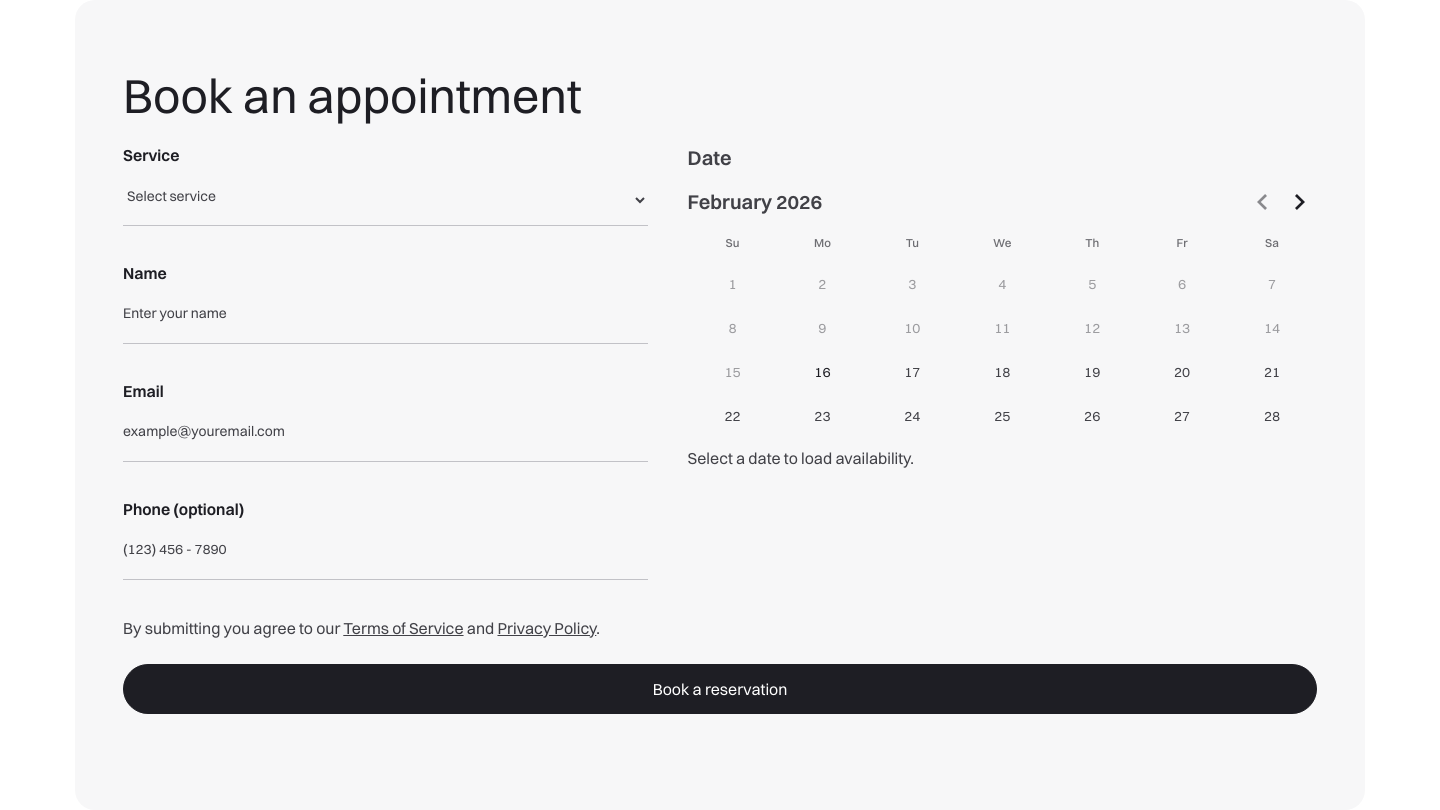
Reservation page › renders the simplified form and submits successfully
Expected: the heading "Book an appointment" is shown, x1=123 y1=66 x2=582 y2=125
Fill the form
Type "Jane Doe" into the field labelled "Name".
click(385, 318); type("Jane Doe")  # box x1=123 y1=292 x2=648 y2=344
Type "1234567890" into the field labelled "Phone (optional)".
click(385, 554); type("1234567890")  # box x1=123 y1=528 x2=648 y2=580
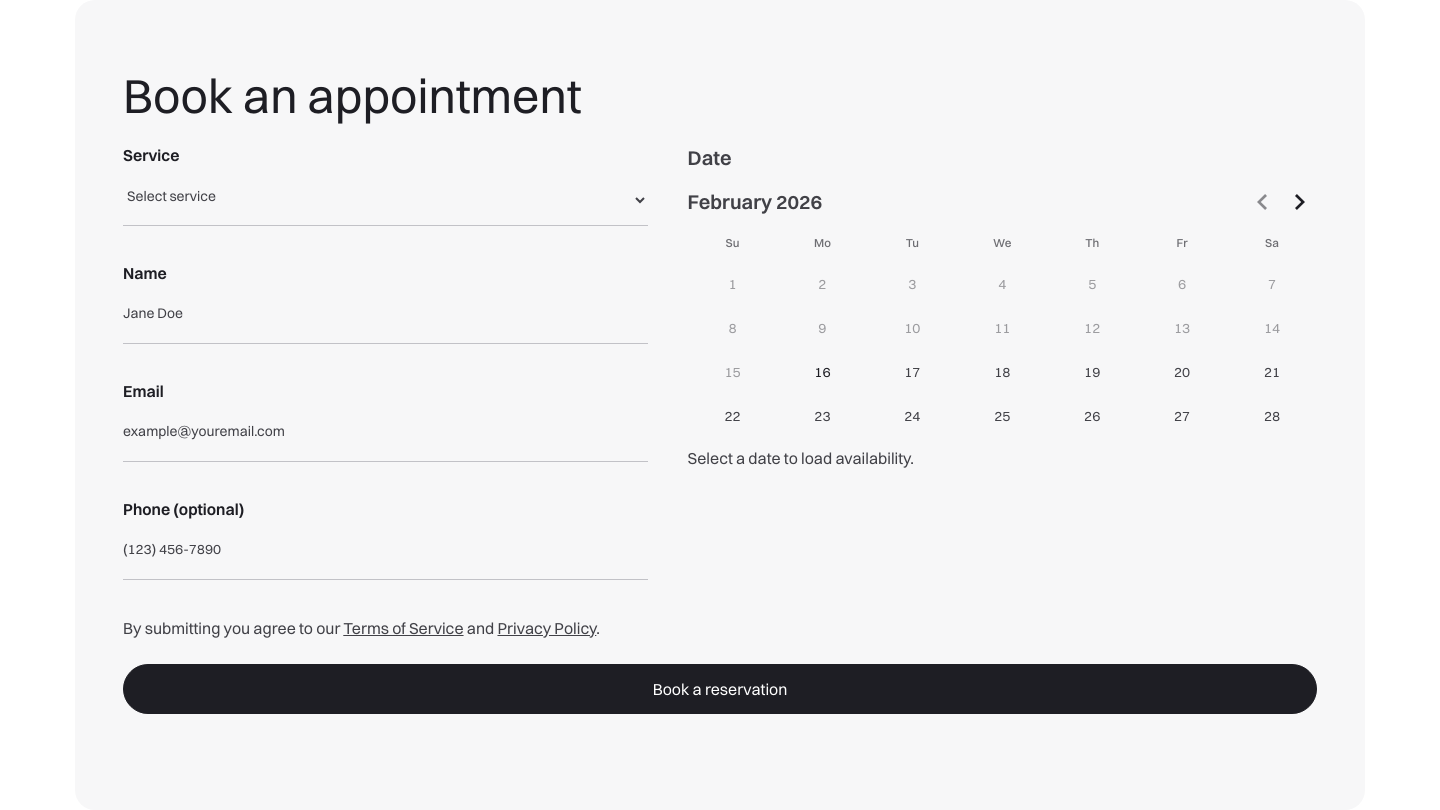
Type "jane@example.com" into the field with placeholder "example@youremail.com".
click(385, 436); type("jane@example.com")  # box x1=123 y1=410 x2=648 y2=462
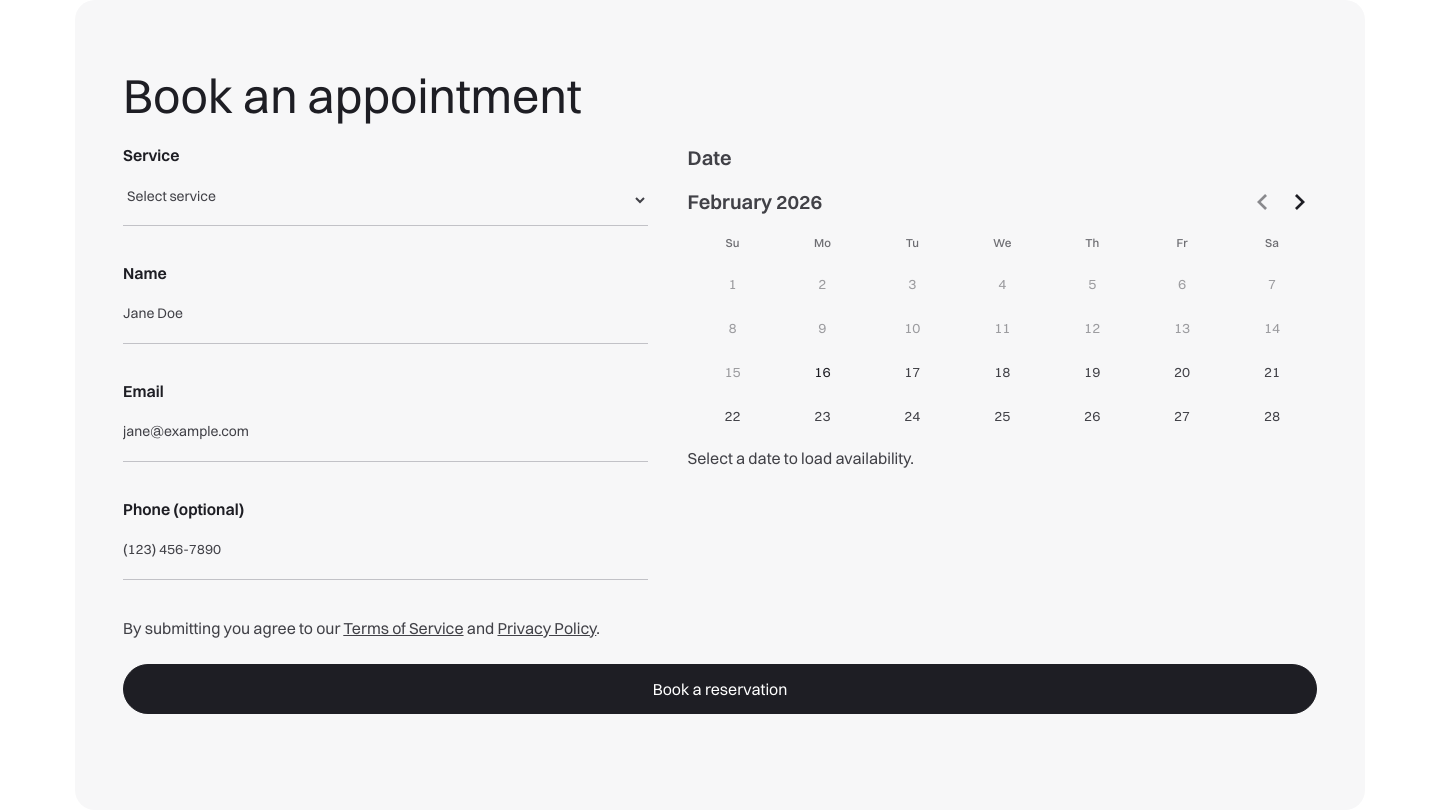
Wait for option to be present
Select "So AfriCal Facial" in the dropdown labelled "Service" at (385, 200), box x1=123 y1=174 x2=648 y2=226
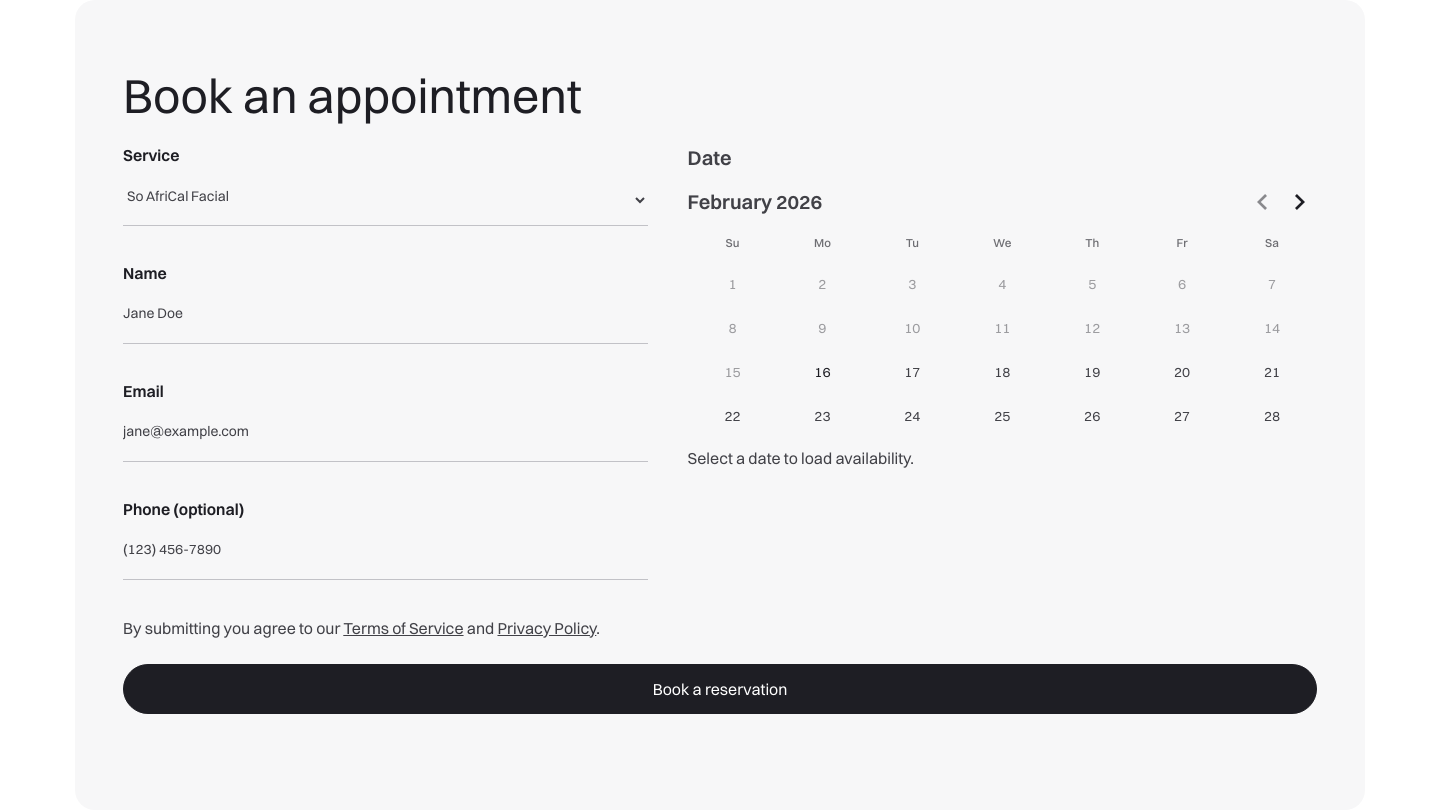
Pick a date (tomorrow)
Click the button "17".
click(912, 372)  # box x1=891 y1=351 x2=933 y2=393
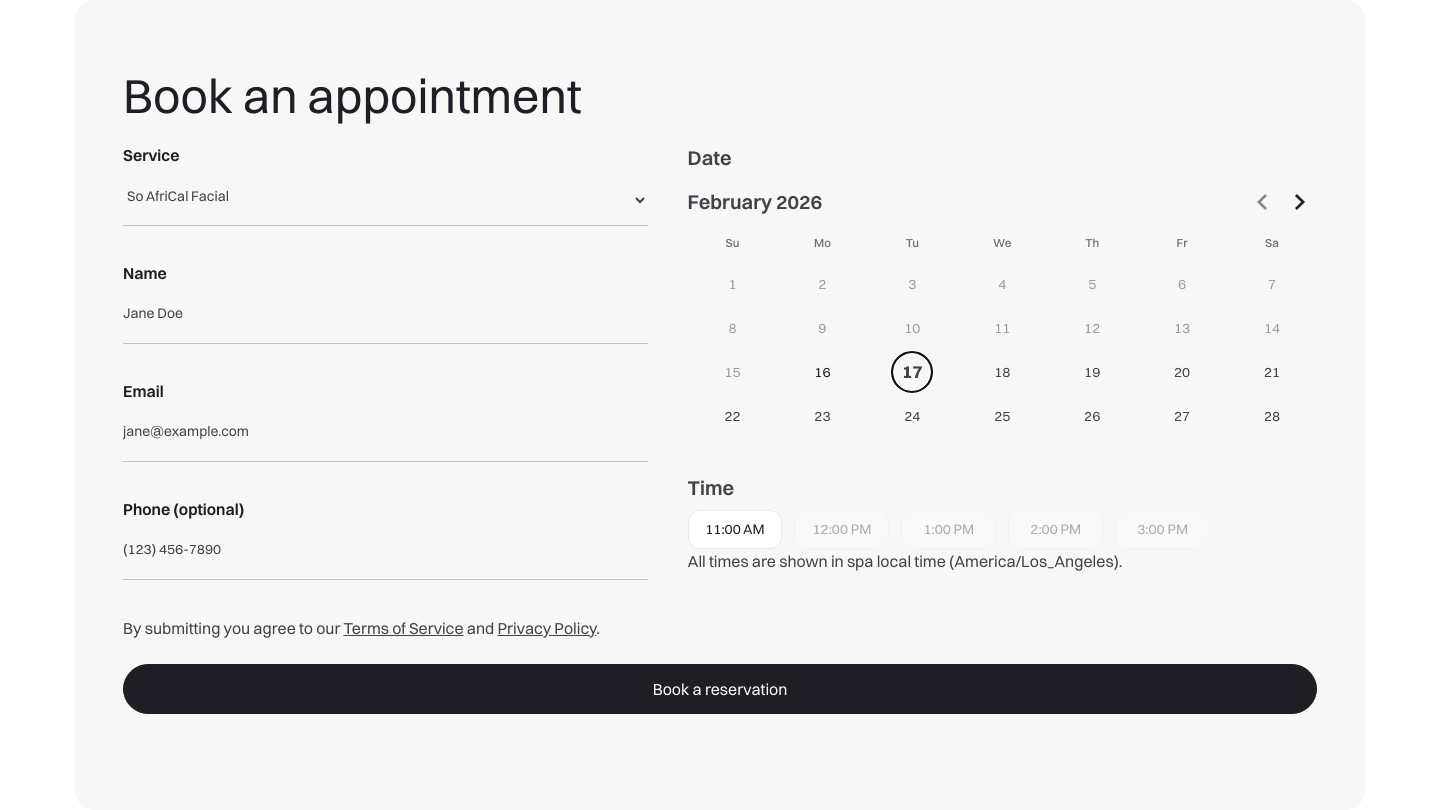
Result: the button "11:00 AM" is enabled
Click the button "11:00 AM".
click(735, 529)  # box x1=688 y1=510 x2=782 y2=549
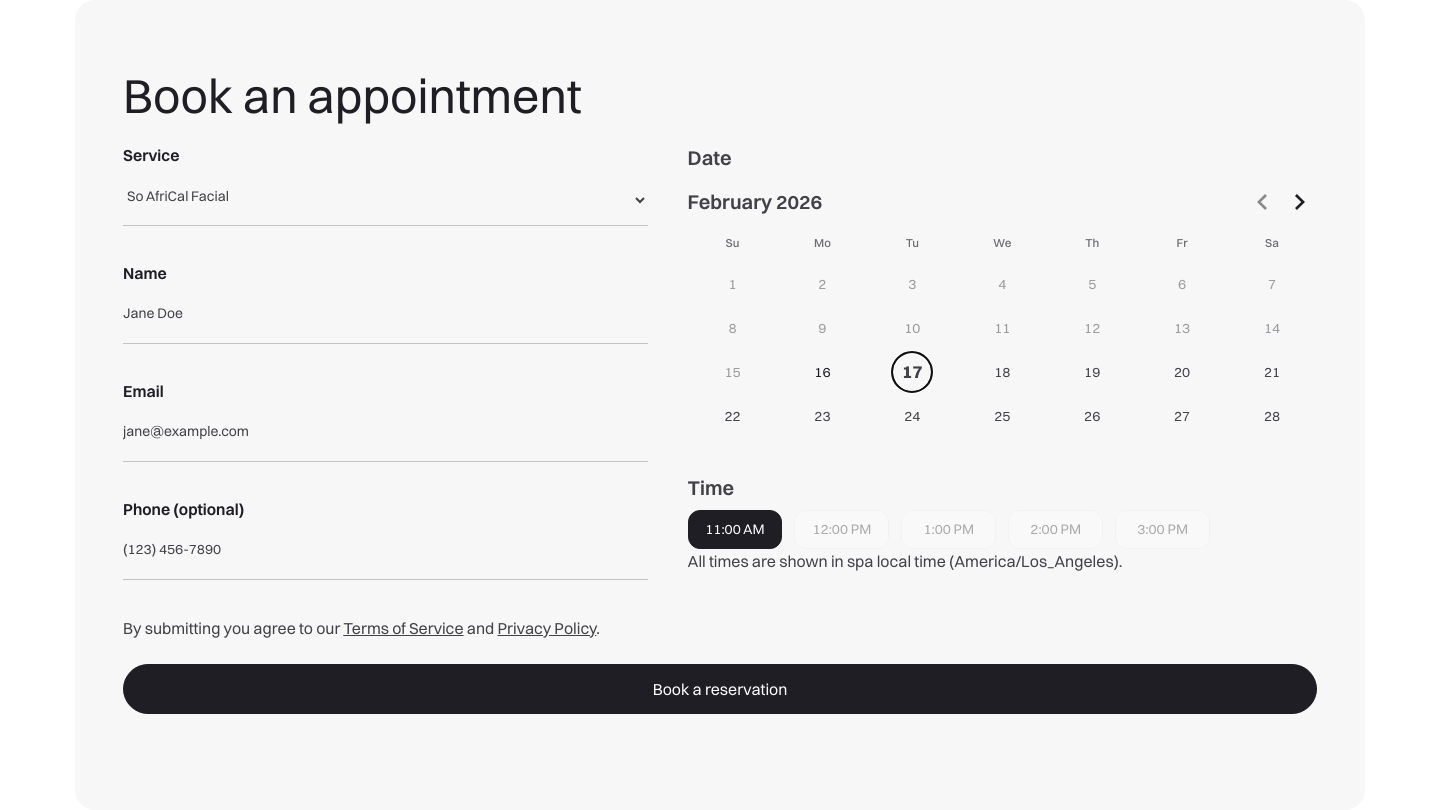
Click the button "Book a reservation".
click(720, 689)  # box x1=123 y1=664 x2=1317 y2=714
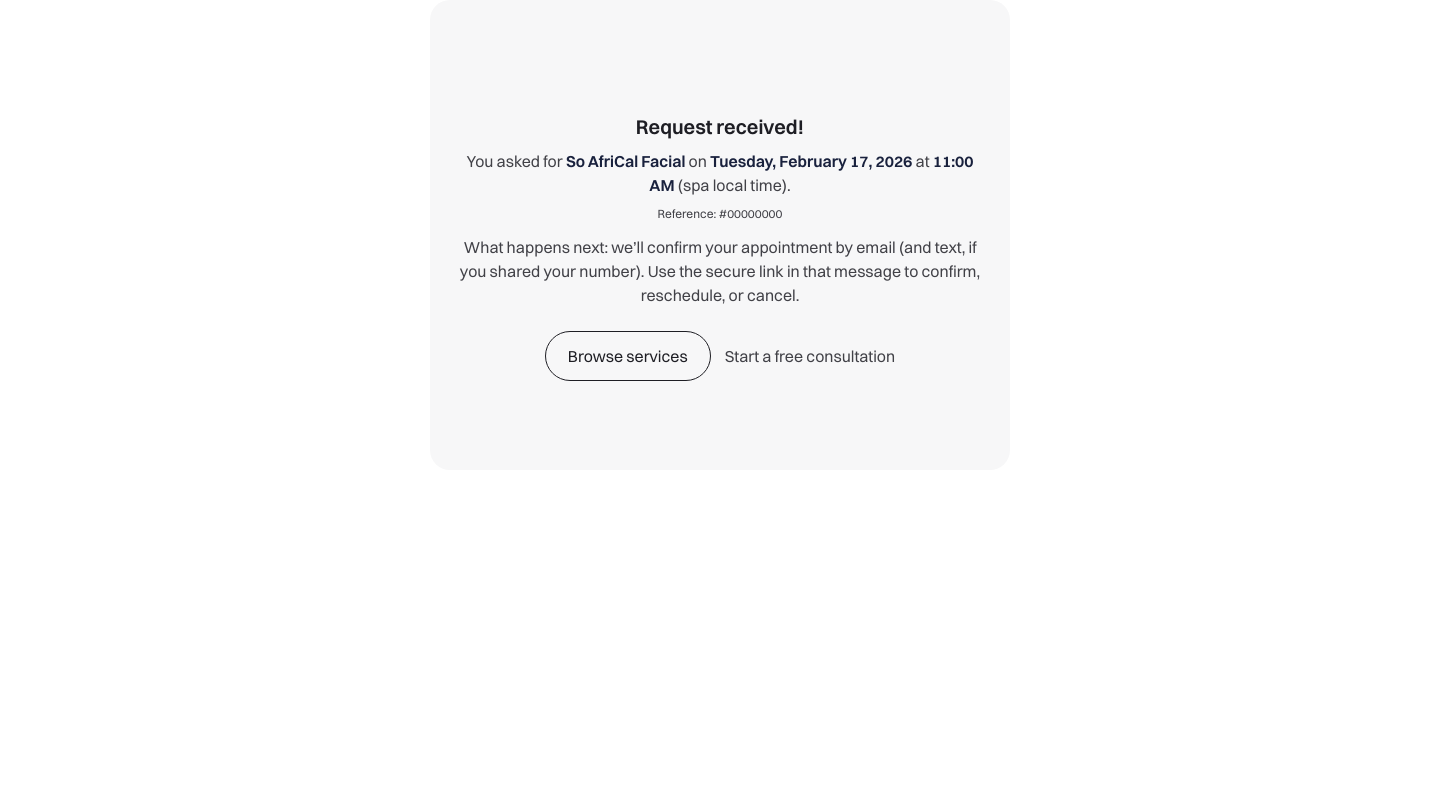
Result: the heading "Request received!" is shown at x1=636 y1=113 x2=804 y2=141
Result: the text "What happens next" is shown at x1=460 y1=237 x2=980 y2=305
